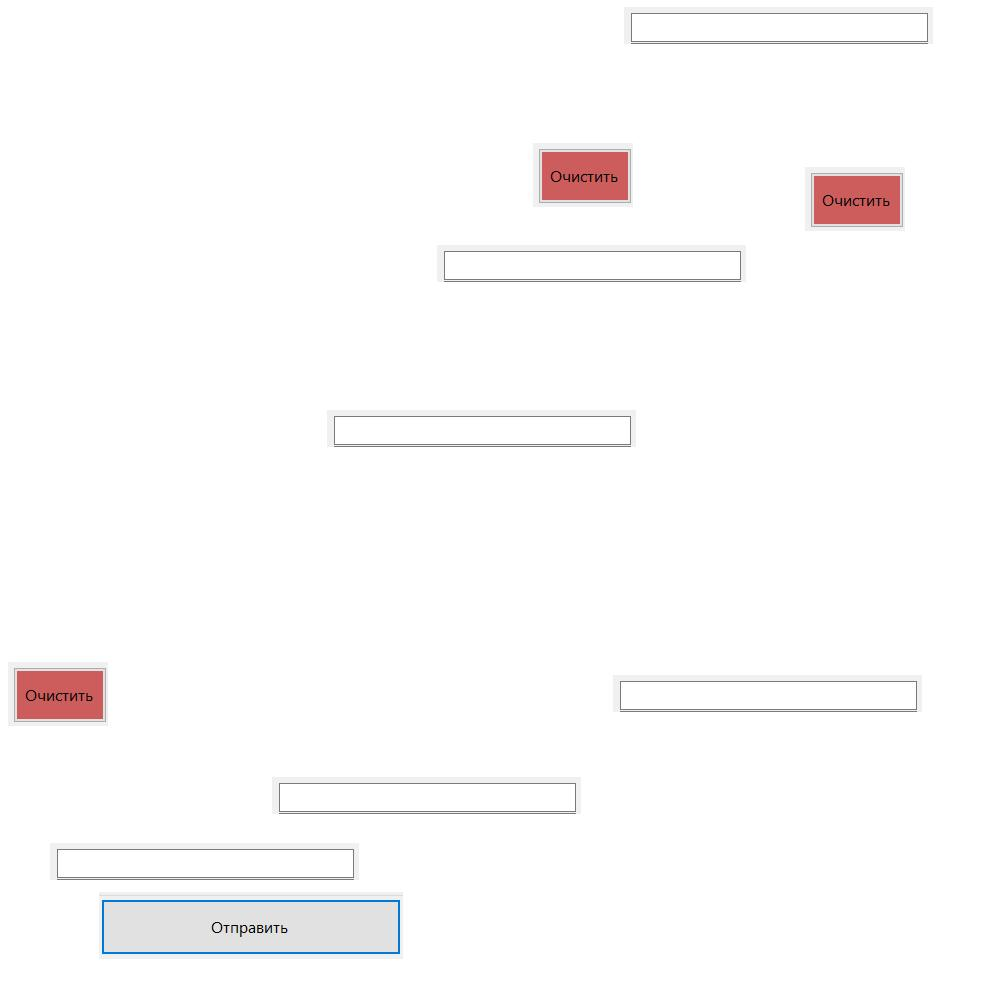Button: (99, 892, 403, 959), (805, 167, 905, 231), (533, 143, 633, 207), (8, 662, 108, 726)
EditText-: (327, 410, 636, 447), (437, 245, 746, 282), (624, 7, 933, 44), (272, 777, 581, 814), (613, 675, 922, 712), (50, 843, 359, 880)
